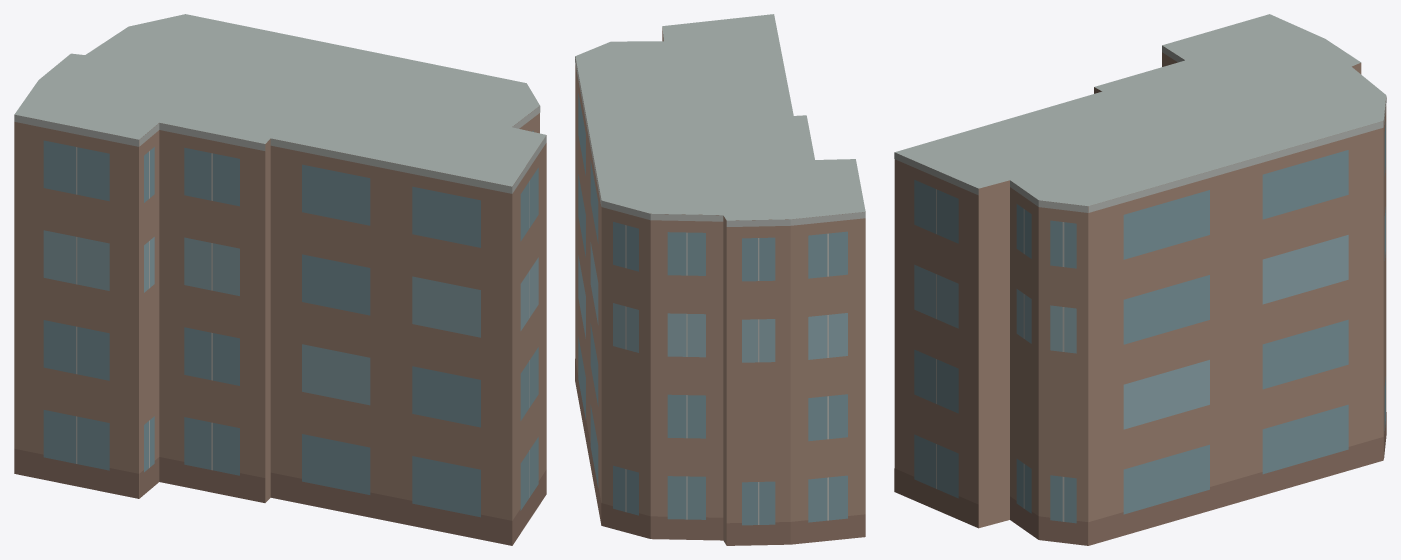
Rendered from survey-upis-32670903.glb.
The picture shows the model from 3 angles, left to right: view 1: azimuth 30°, elevation 25°; view 2: azimuth 150°, elevation 25°; view 3: azimuth 270°, elevation 25°; orthographic projection. The views are drawn at different scales.
Parts seen in each view (by area): view 1: survey-upis-32670903.tmp; view 2: survey-upis-32670903.tmp; view 3: survey-upis-32670903.tmp.
Part boxes in pixels (left/top/right/bottom): survey-upis-32670903.tmp: left=14, top=14, right=546, bottom=545; survey-upis-32670903.tmp: left=575, top=14, right=865, bottom=545; survey-upis-32670903.tmp: left=894, top=14, right=1386, bottom=545.
Size of the model in its own units: 14.82 by 12.2 by 16.02.
